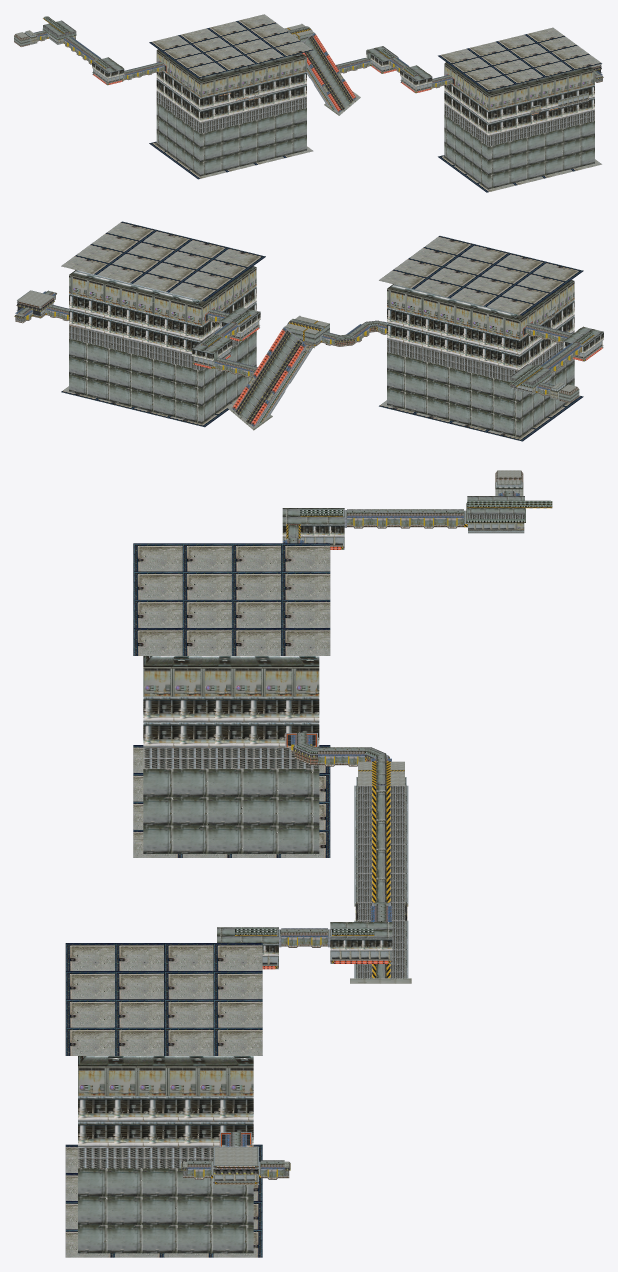
Rendered from PrisonLane.obj.
The picture shows the model from 3 angles, top to bottom: view 1: azimuth 30°, elevation 25°; view 2: azimuth 150°, elevation 25°; view 3: azimuth 270°, elevation 25°; orthographic projection. The views are drawn at different scales.
Size of the model in its own units: 5031 by 1583 by 2075.
Materials: 39 (39 with a texture image).
